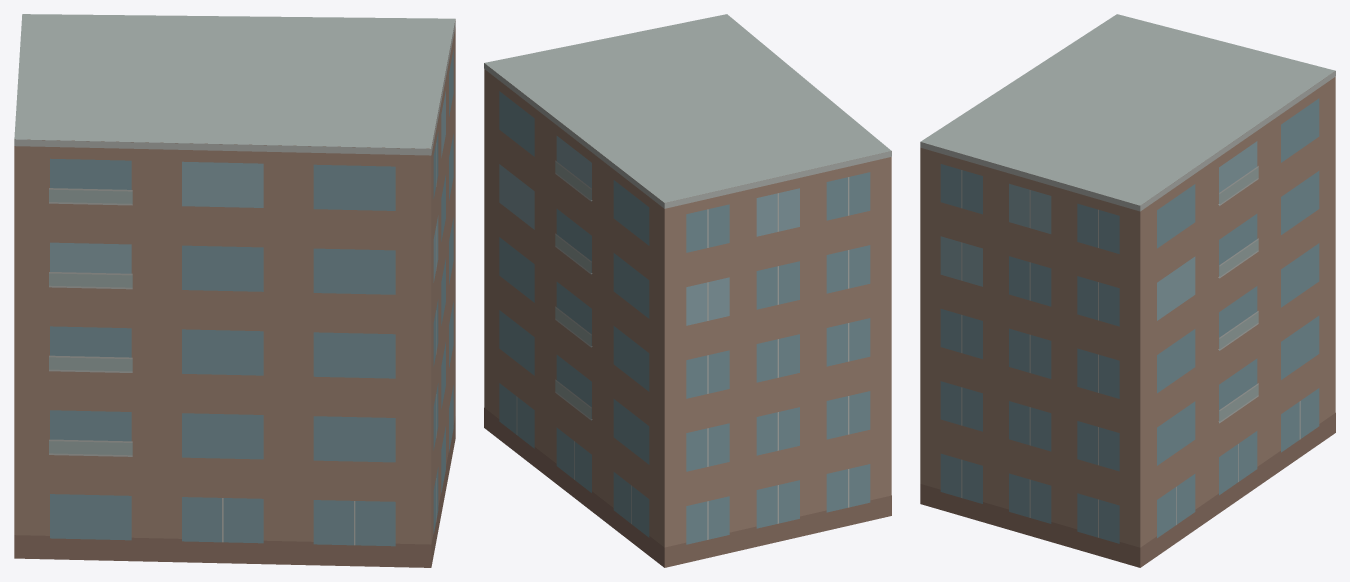
Rendered from survey-upis-32750168.glb.
3 renders of one model, left to right at view 1: azimuth 30°, elevation 25°; view 2: azimuth 150°, elevation 25°; view 3: azimuth 270°, elevation 25°, orthographic. The views are drawn at different scales.
Parts seen in each view (by area): view 1: survey-upis-32750168.tmp; view 2: survey-upis-32750168.tmp; view 3: survey-upis-32750168.tmp.
Boxes of the visible parts, x1,y1,x2,y2 form: survey-upis-32750168.tmp: (14, 14, 455, 567); survey-upis-32750168.tmp: (484, 14, 891, 567); survey-upis-32750168.tmp: (920, 14, 1335, 567).
Size of the model in its own units: 17.33 by 15.25 by 15.86.
